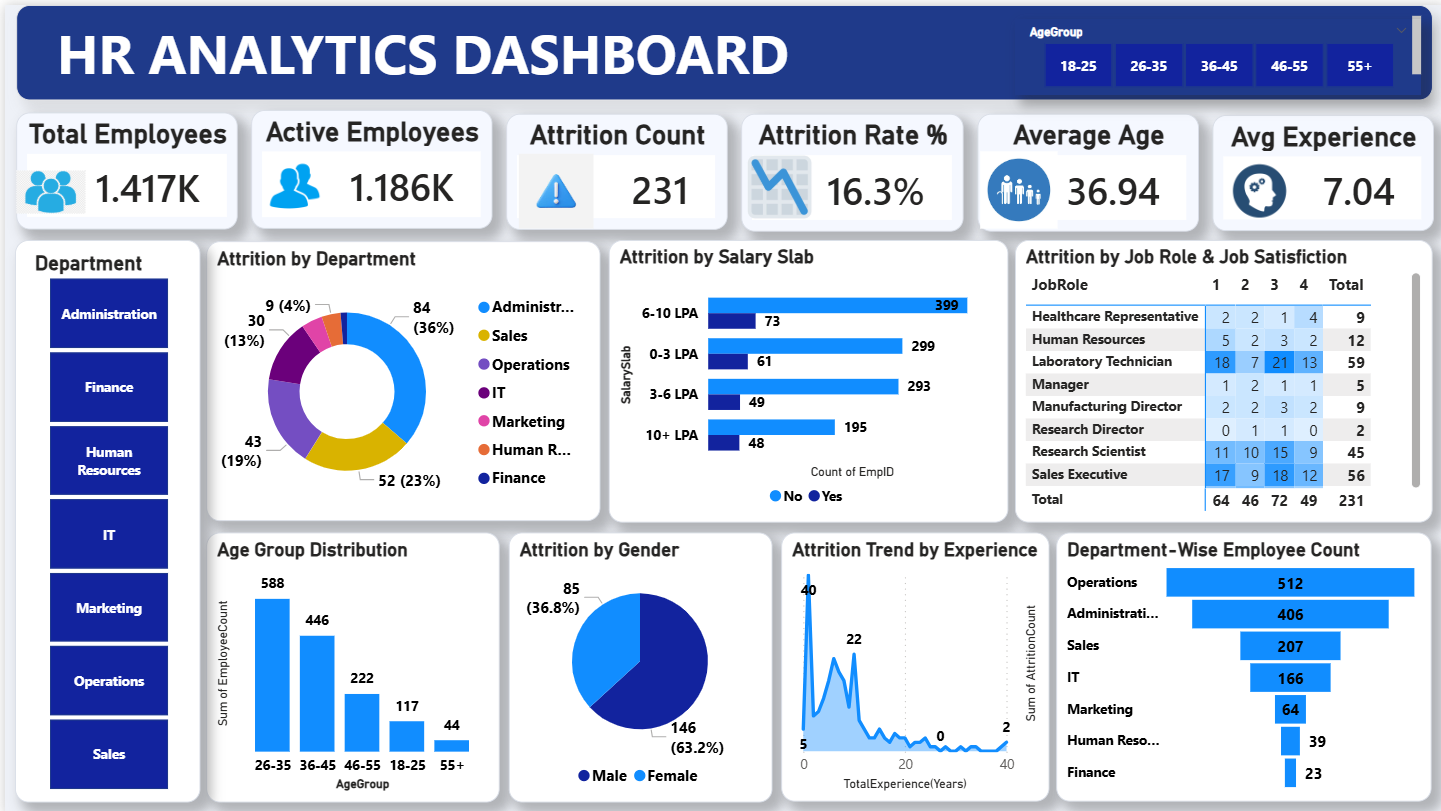

What the dashboard file says about the page in this screenshot:
{"tool":"powerbi","page":{"name":"Page 1","canvas":[1280,720],"ordinal":0},"visuals":[{"type":"textbox","box":[10,0,1259,85],"z":0},{"type":"cardVisual","title":"Total Employees","fields":{"Data":["CountNonNull(HR_Analytics-4.EmpID)"]},"box":[10,95,197,104],"z":1000},{"type":"cardVisual","title":"Active Employees","fields":{"Data":["CountNonNull(HR_Analytics-4.EmployeeCount)"]},"box":[219.3,93.3,214.1,105.7],"z":2000},{"type":"cardVisual","title":"Attrition Count","fields":{"Data":["Sum(HR_Analytics-4.AttritionCount)"]},"box":[445.7,96.5,196.5,103.5],"z":3000},{"type":"cardVisual","title":"Attrition Rate %","fields":{"Data":["HR_Analytics-4.Attrition Rate %"]},"box":[654.5,96.5,197.7,104.7],"z":4000},{"type":"cardVisual","title":"Average Age","fields":{"Data":["Avg(HR_Analytics-4.Age)"]},"box":[864.4,96.5,196.5,104.7],"z":5000},{"type":"cardVisual","title":"Avg Experience","fields":{"Data":["Avg(HR_Analytics-4.YearsatCompany)"]},"box":[1073.3,97.7,196.5,103.5],"z":6000},{"type":"image","box":[10.5,137.2,61.6,59.3],"z":7000},{"type":"image","box":[864,130.2,73.3,68.6],"z":8000},{"type":"image","box":[1073.1,133.1,83.7,63.1],"z":9000},{"type":"image","box":[658.1,132.6,61.6,59.3],"z":10000},{"type":"image","box":[445.4,132.6,88.4,66.3],"z":11000},{"type":"image","box":[219.8,122.1,75.6,77.9],"z":12000},{"type":"donutChart","title":"Attrition by Department","fields":{"Category":["HR_Analytics-4.Department"],"Y":["Sum(HR_Analytics-4.AttritionCount)"]},"box":[179,210,350,249],"z":13000},{"type":"clusteredBarChart","title":"Attrition by Salary Slab","fields":{"Category":["HR_Analytics-4.SalarySlab"],"Y":["CountNonNull(HR_Analytics-4.EmpID)"],"Series":["HR_Analytics-4.Attrition"]},"box":[537,209,355,251],"z":14000},{"type":"pivotTable","title":"Attrition by Job Role & Job Satisfiction","fields":{"Rows":["HR_Analytics-4.JobRole"],"Columns":["HR_Analytics-4.JobSatisfaction"],"Values":["Sum(HR_Analytics-4.AttritionCount)"]},"box":[898,209,371,251],"z":15000},{"type":"columnChart","title":"Age Group Distribution","fields":{"Category":["HR_Analytics-4.AgeGroup"],"Y":["Sum(HR_Analytics-4.EmployeeCount)"]},"box":[179,469,261,240],"z":16000},{"type":"pieChart","title":"Attrition by Gender","fields":{"Category":["HR_Analytics-4.Gender"],"Y":["Sum(HR_Analytics-4.AttritionCount)"]},"box":[448,469,234,240],"z":17000},{"type":"areaChart","title":"Attrition Trend by Experience","fields":{"Category":["HR_Analytics-4.TotalExperience(Years)"],"Y2":["Sum(HR_Analytics-4.AttritionCount)"]},"box":[689.5,468.6,238.4,239.5],"z":18000},{"type":"funnel","title":"Department-Wise Employee Count","fields":{"Y":["CountNonNull(HR_Analytics-4.EmpID)"],"Category":["HR_Analytics-4.Department"]},"box":[934.9,468.6,333.7,239.5],"z":19000},{"type":"slicer","fields":{"Values":["HR_Analytics-4.Department"]},"box":[9,209,165,500],"z":20000},{"type":"slicer","fields":{"Values":["HR_Analytics-4.AgeGroup"]},"box":[898,12,361,68],"z":21000}]}

Visuals, with their boxes in screenshot pixels (x1, y1, x2, y2), scaled from the page's 1280x720 canvas onto the 1441x811 screenshot:
textbox: 11/0/1429/96
"Total Employees" cardVisual: 11/107/233/224
"Active Employees" cardVisual: 247/105/488/224
"Attrition Count" cardVisual: 502/109/723/225
"Attrition Rate %" cardVisual: 737/109/959/227
"Average Age" cardVisual: 973/109/1194/227
"Avg Experience" cardVisual: 1208/110/1430/227
image: 12/155/81/221
image: 973/147/1055/224
image: 1208/150/1302/221
image: 741/149/810/216
image: 501/149/601/224
image: 247/138/333/225
"Attrition by Department" donutChart: 202/237/596/517
"Attrition by Salary Slab" clusteredBarChart: 605/235/1004/518
"Attrition by Job Role & Job Satisfiction" pivotTable: 1011/235/1429/518
"Age Group Distribution" columnChart: 202/528/495/799
"Attrition by Gender" pieChart: 504/528/768/799
"Attrition Trend by Experience" areaChart: 776/528/1045/798
"Department-Wise Employee Count" funnel: 1052/528/1428/798
slicer - HR_Analytics-4.Department: 10/235/196/799
slicer - HR_Analytics-4.AgeGroup: 1011/14/1417/90
